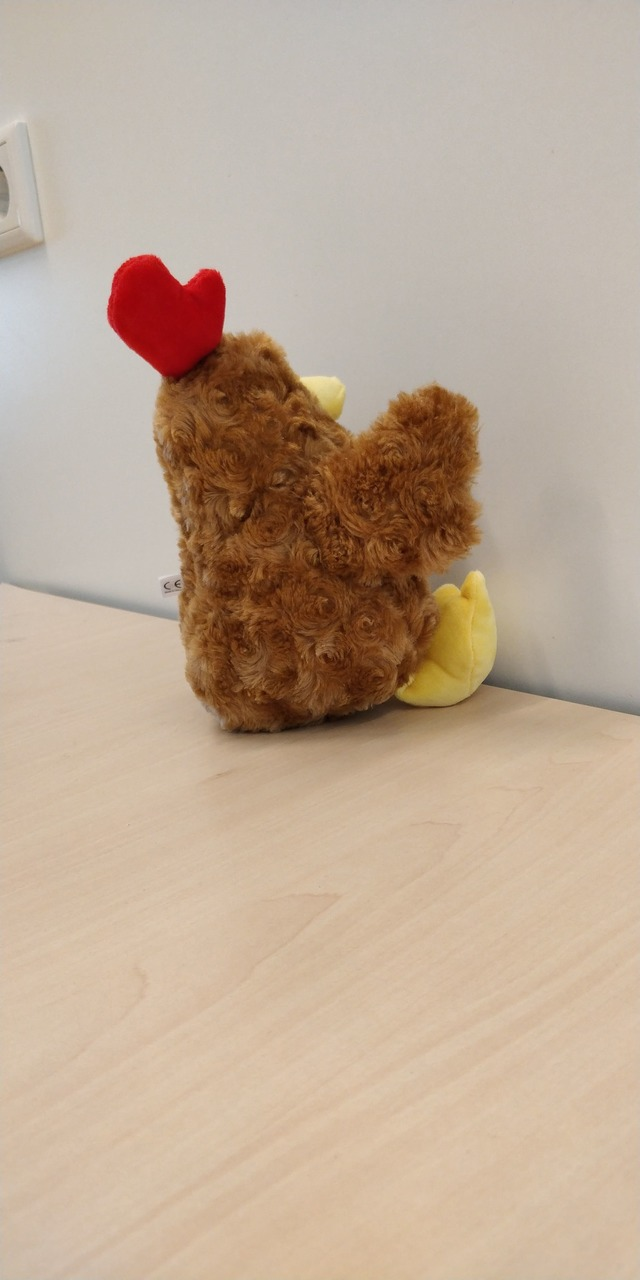fakeChicken: (104, 253, 501, 734)
